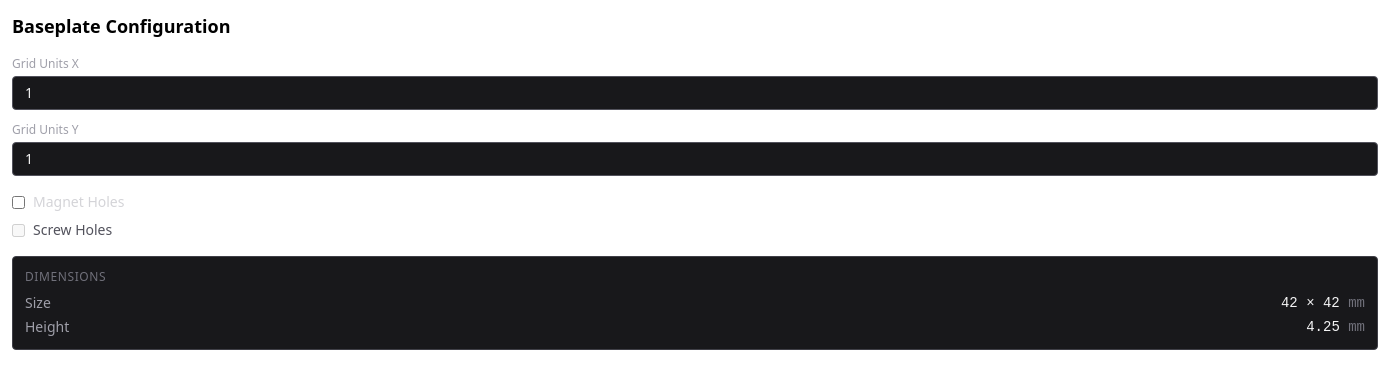
it: BaseplateConfigPanel — interactions › updates gridUnitsX when input changes
Replace the text in the number field labelled "Grid Units X" with "5": {"x": 695, "y": 93} [12,76,1378,110]
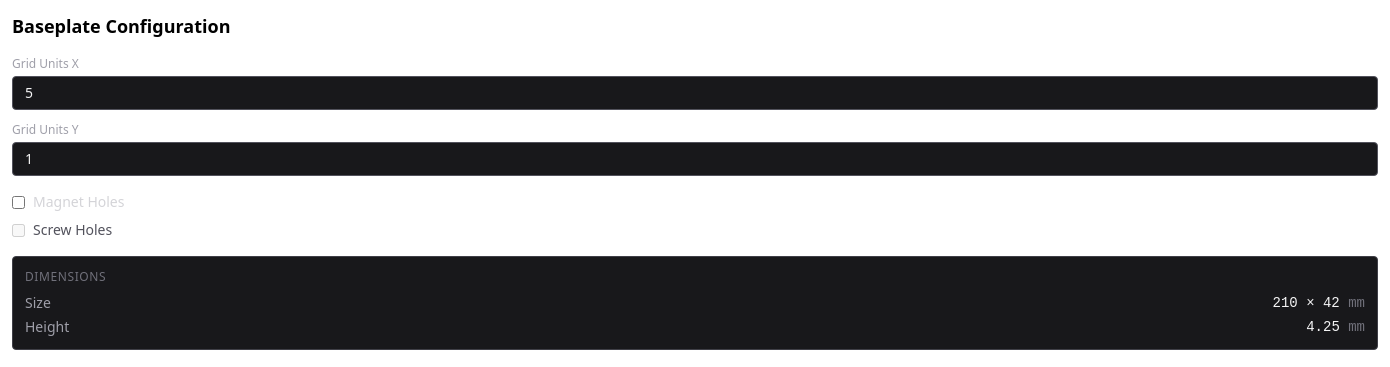
Expected: the text with test id "bp-width" reads "210", [1272,295,1298,311]
